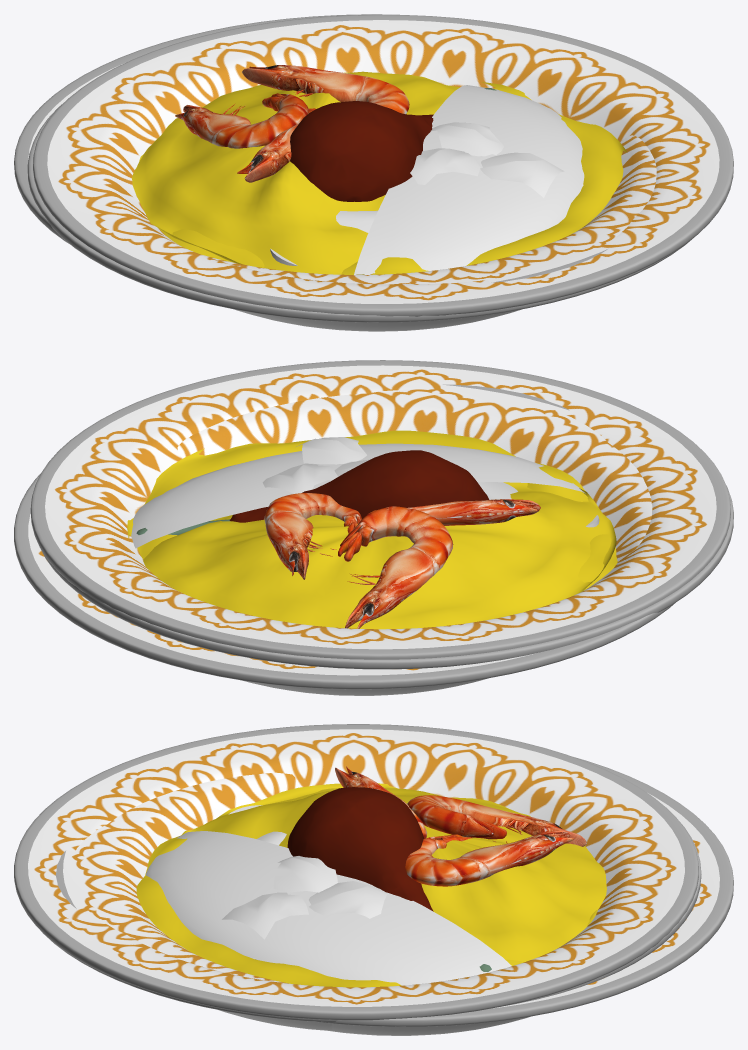
File: Foods.fbx
3 views of the same model, one above another, from view 1: azimuth 30°, elevation 25°; view 2: azimuth 150°, elevation 25°; view 3: azimuth 270°, elevation 25° (orthographic). The views are drawn at different scales.
Visible parts, largest first — view 1: Plate.008, Cube.007, Sphere.002, Plate.006, Bone.001, Plate.003, Plate.001, Plane.011, Circle.001; view 2: Plate.008, Cube.007, Plate.006, Sphere.002, Bone.001, Plate.003, Plate.001, Plane.011, Circle.001; view 3: Plate.008, Cube.007, Plate.006, Sphere.002, Bone.001, Plane.011, Plate.003, Plate.001.
Boxes of the visible parts, x1=… form: Plate.008: x1=33, y1=14, x2=733, y2=316; Cube.007: x1=132, y1=65, x2=456, y2=274; Sphere.002: x1=354, y1=85, x2=584, y2=274; Plate.006: x1=14, y1=14, x2=656, y2=284; Bone.001: x1=290, y1=88, x2=496, y2=201; Plate.003: x1=139, y1=72, x2=627, y2=274; Plate.001: x1=27, y1=103, x2=691, y2=331; Plane.011: x1=410, y1=122, x2=564, y2=197; Circle.001: x1=270, y1=184, x2=583, y2=265; Plate.008: x1=30, y1=360, x2=730, y2=659; Cube.007: x1=143, y1=482, x2=616, y2=629; Plate.006: x1=14, y1=384, x2=674, y2=695; Sphere.002: x1=131, y1=443, x2=585, y2=548; Bone.001: x1=136, y1=450, x2=489, y2=535; Plate.003: x1=127, y1=430, x2=617, y2=601; Plate.001: x1=41, y1=486, x2=733, y2=669; Plane.011: x1=262, y1=437, x2=370, y2=493; Circle.001: x1=478, y1=482, x2=599, y2=527; Plate.008: x1=14, y1=724, x2=698, y2=1020; Cube.007: x1=181, y1=766, x2=606, y2=961; Plate.006: x1=55, y1=757, x2=733, y2=1035; Sphere.002: x1=146, y1=831, x2=511, y2=985; Bone.001: x1=287, y1=787, x2=491, y2=971; Plane.011: x1=222, y1=856, x2=387, y2=939; Plate.003: x1=136, y1=788, x2=597, y2=987; Plate.001: x1=40, y1=821, x2=701, y2=1030.
Bounding box in the file's own units: 137 × 31.41 × 143.
